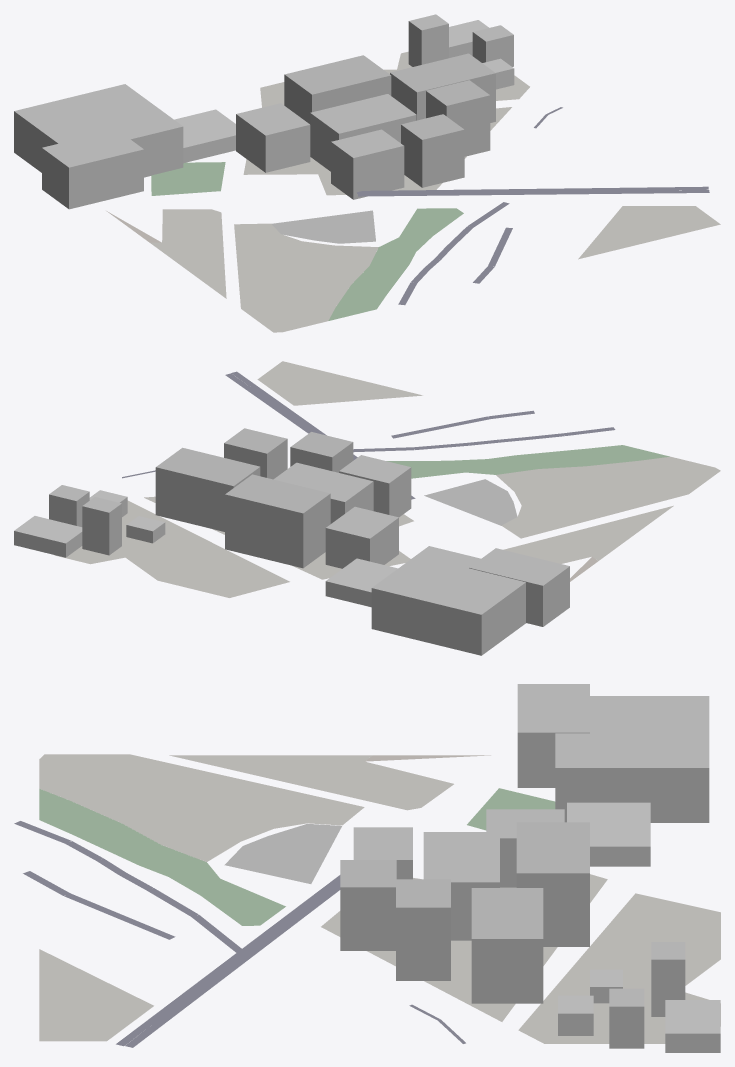
The model's file is 107_93_mid.glb.
The picture shows the model from 3 angles, top to bottom: view 1: azimuth 30°, elevation 25°; view 2: azimuth 150°, elevation 25°; view 3: azimuth 270°, elevation 25°; orthographic projection. The views are drawn at different scales.
Size of the model in its own units: 555 by 60.53 by 519.
